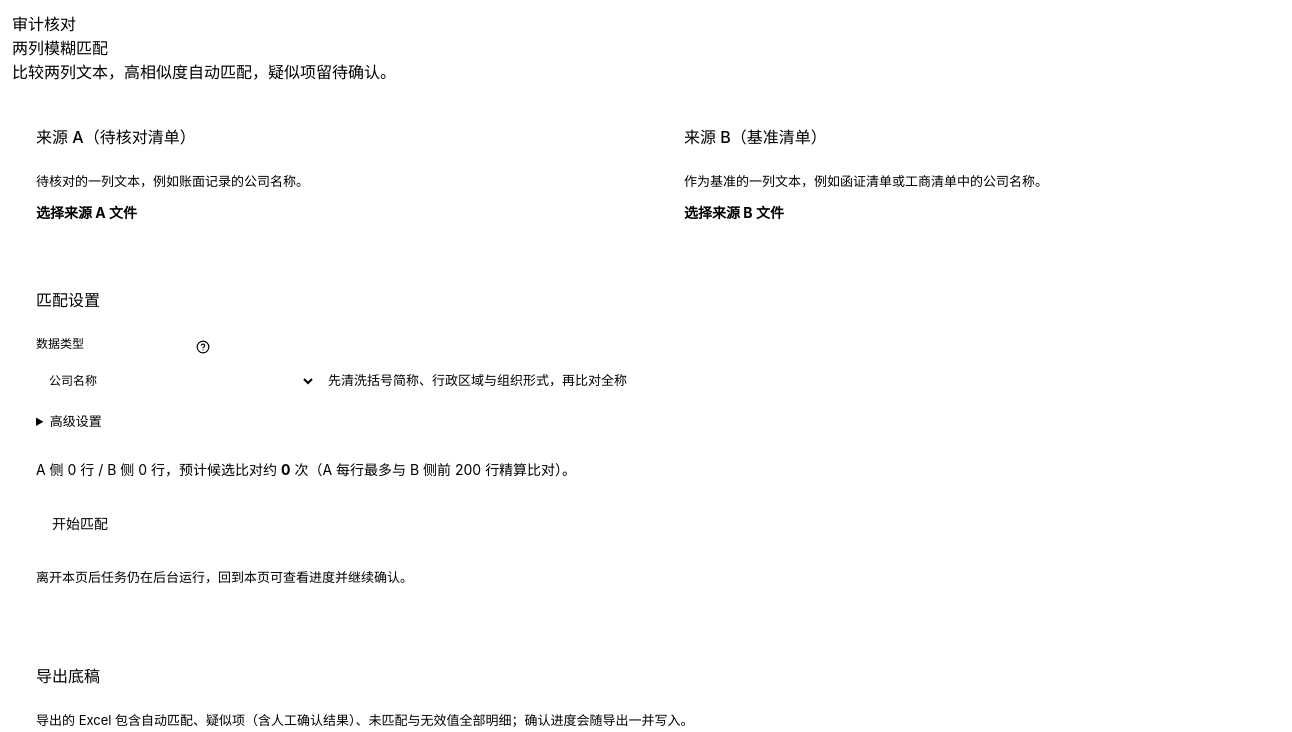
Test: FuzzyMatchPage › 数据类型切换后说明文案随之变化
Check: the text "先清洗括号简称、行政区域与组织形式，再比对全称" is shown, box [328, 372, 627, 388]
Select "人名" in the dropdown labelled "数据类型" at point(176, 381), box [36, 364, 316, 398]
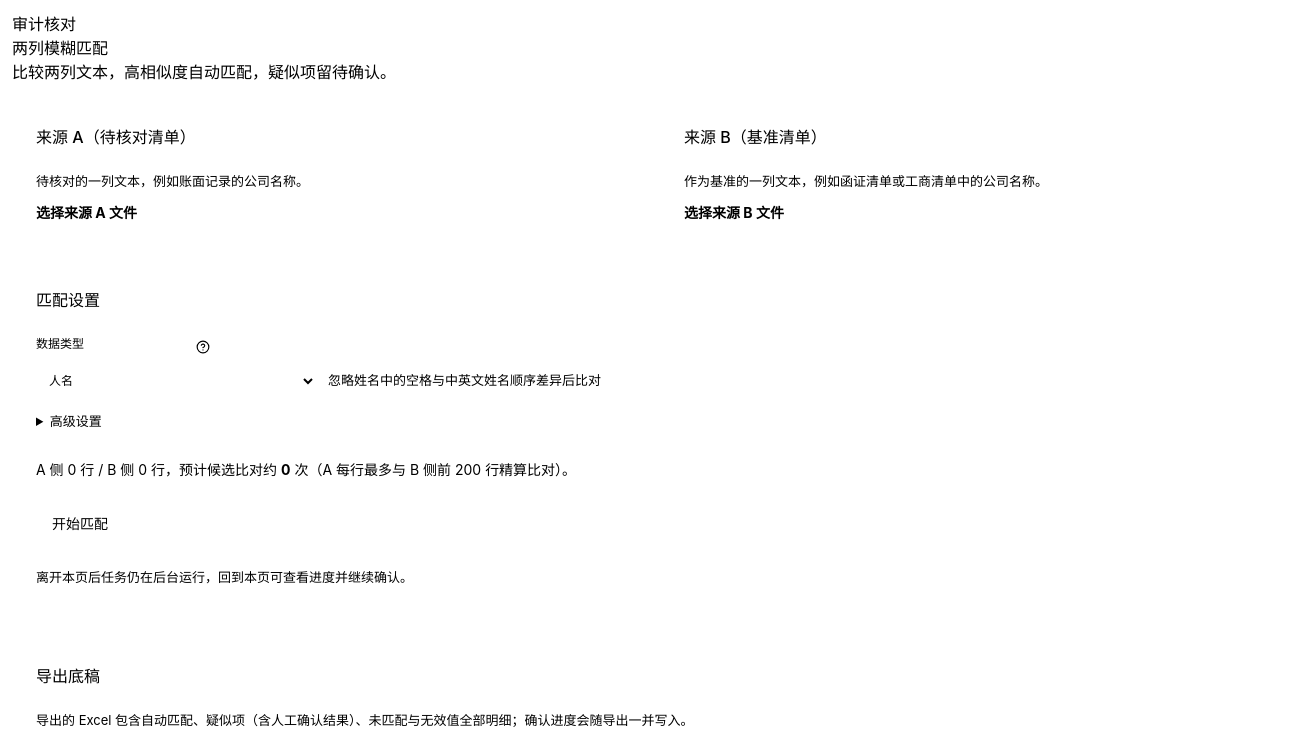
Check: the text "忽略姓名中的空格与中英文姓名顺序差异后比对" is shown, box [328, 372, 601, 388]
Check: the text "清洗括号简称" is gone
